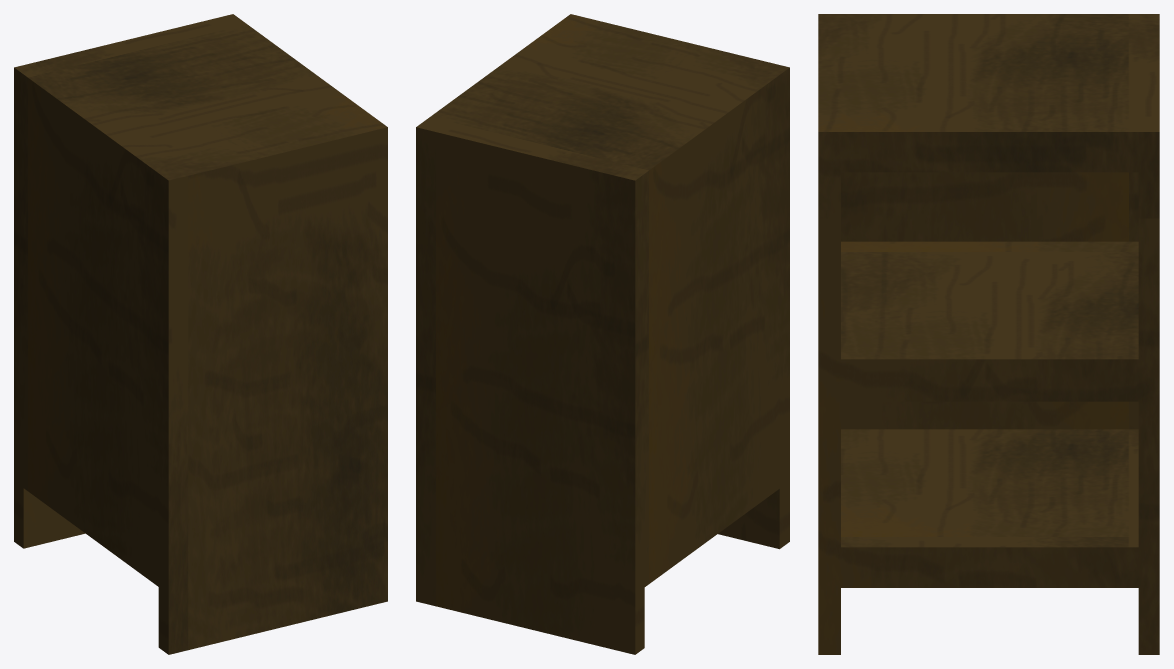
The model's file is Tumbochka.fbx.
3 views of the same model, side by side, from view 1: azimuth 30°, elevation 25°; view 2: azimuth 150°, elevation 25°; view 3: azimuth 270°, elevation 25° (orthographic). The views are drawn at different scales.
Visible parts, largest first — view 1: Cube; view 2: Cube; view 3: Cube.
Part boxes in pixels (box(x1,y1,x2,y2)): Cube: box(14, 14, 387, 654); Cube: box(416, 14, 789, 654); Cube: box(818, 14, 1159, 654).
Bounding box in the file's own units: 200 × 414 × 244.
